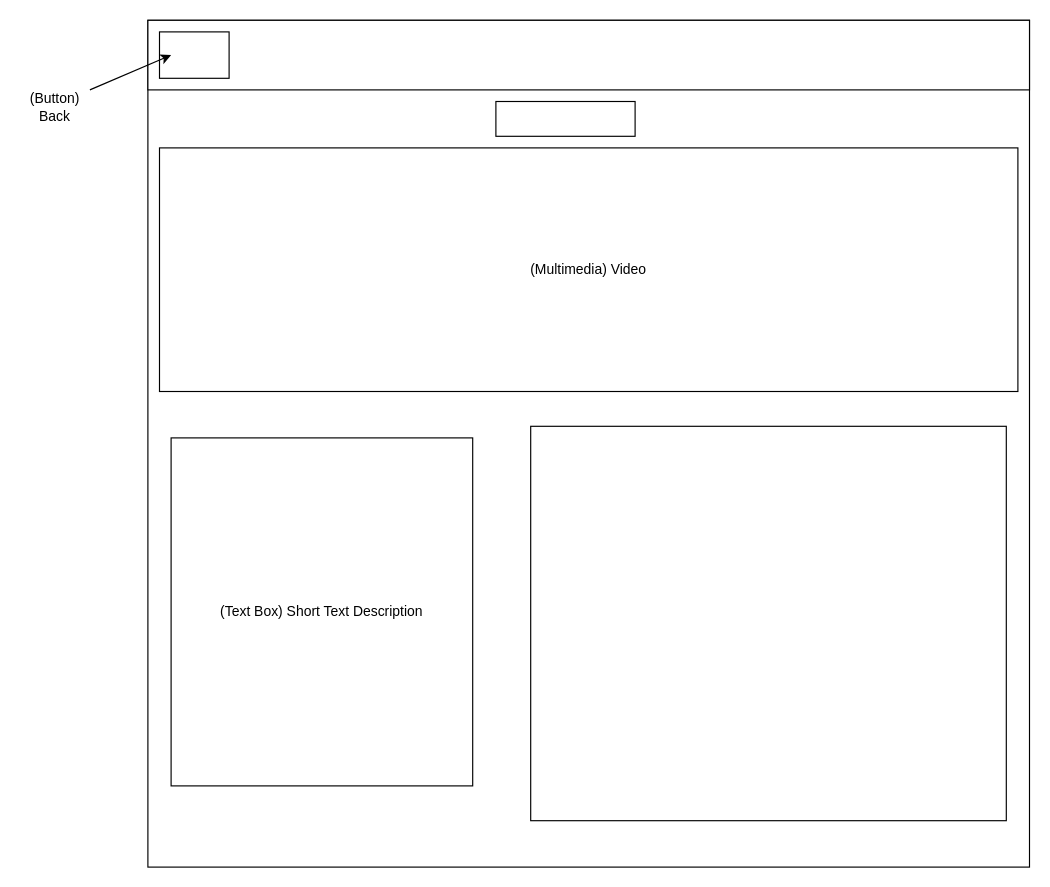
Some shapes in this 1050 by 887 pixel diagram are drawn without their labels. Here are the shapes that lost their labels. From the top down, the centre of each, then its label:
the point at 565,118: (Label) Title
the point at 768,623: (Changeable multimedia) Diagram, game, interactive
